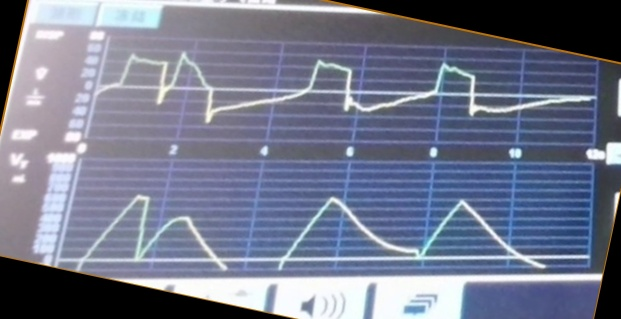Double_Triggering Flow: (106, 47, 541, 130)
Double_Triggering Volume: (78, 183, 565, 273)
